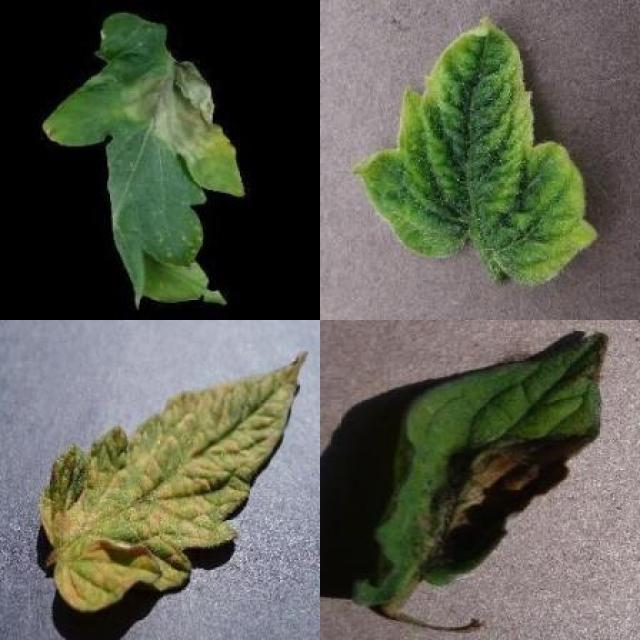Late Blight: (353, 330, 610, 607), (46, 13, 246, 310)
Leaf Mold: (37, 350, 309, 610)
Yellow Leaf Curl Virus: (354, 17, 596, 290)
